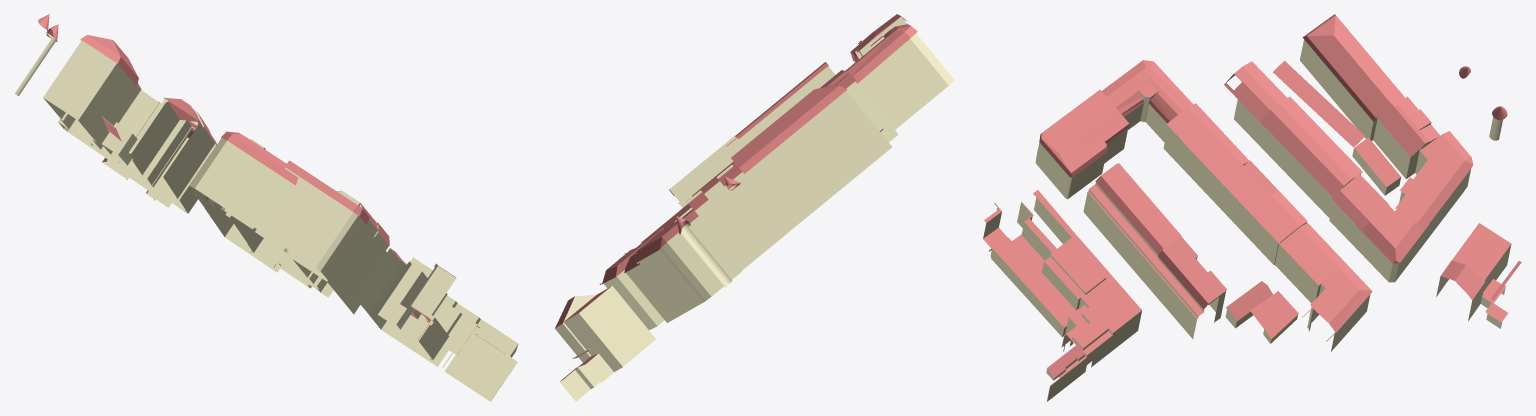
File: tile_099.glb
3 views of the same model, side by side, from view 1: azimuth 30°, elevation 25°; view 2: azimuth 150°, elevation 25°; view 3: azimuth 270°, elevation 25° (orthographic). The views are drawn at different scales.
Parts seen in each view (by area): view 1: Batched_Building_ID_CD72BB84-0F98-4C71-9F0F-67CF16185ED2, Batched_Building_ID_380B4199-191F-4511-84B4-3A21EEB63807; view 2: Batched_Building_ID_CD72BB84-0F98-4C71-9F0F-67CF16185ED2, Batched_Building_ID_380B4199-191F-4511-84B4-3A21EEB63807; view 3: Batched_Building_ID_380B4199-191F-4511-84B4-3A21EEB63807, Batched_Building_ID_CD72BB84-0F98-4C71-9F0F-67CF16185ED2.
Part boxes in pixels (x1,y1,x2,y2): Batched_Building_ID_CD72BB84-0F98-4C71-9F0F-67CF16185ED2: (14,33,518,401); Batched_Building_ID_380B4199-191F-4511-84B4-3A21EEB63807: (38,14,504,353); Batched_Building_ID_CD72BB84-0F98-4C71-9F0F-67CF16185ED2: (555,17,954,401); Batched_Building_ID_380B4199-191F-4511-84B4-3A21EEB63807: (555,14,917,381); Batched_Building_ID_380B4199-191F-4511-84B4-3A21EEB63807: (983,14,1521,385); Batched_Building_ID_CD72BB84-0F98-4C71-9F0F-67CF16185ED2: (983,39,1511,401).
Size of the model in its own units: 125 by 116 by 203.
